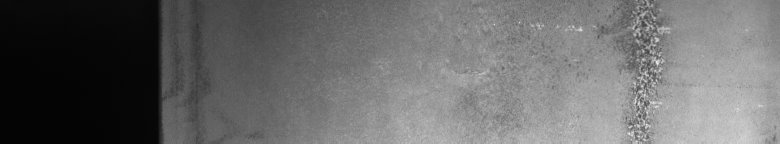hc: (528, 4, 670, 136)
